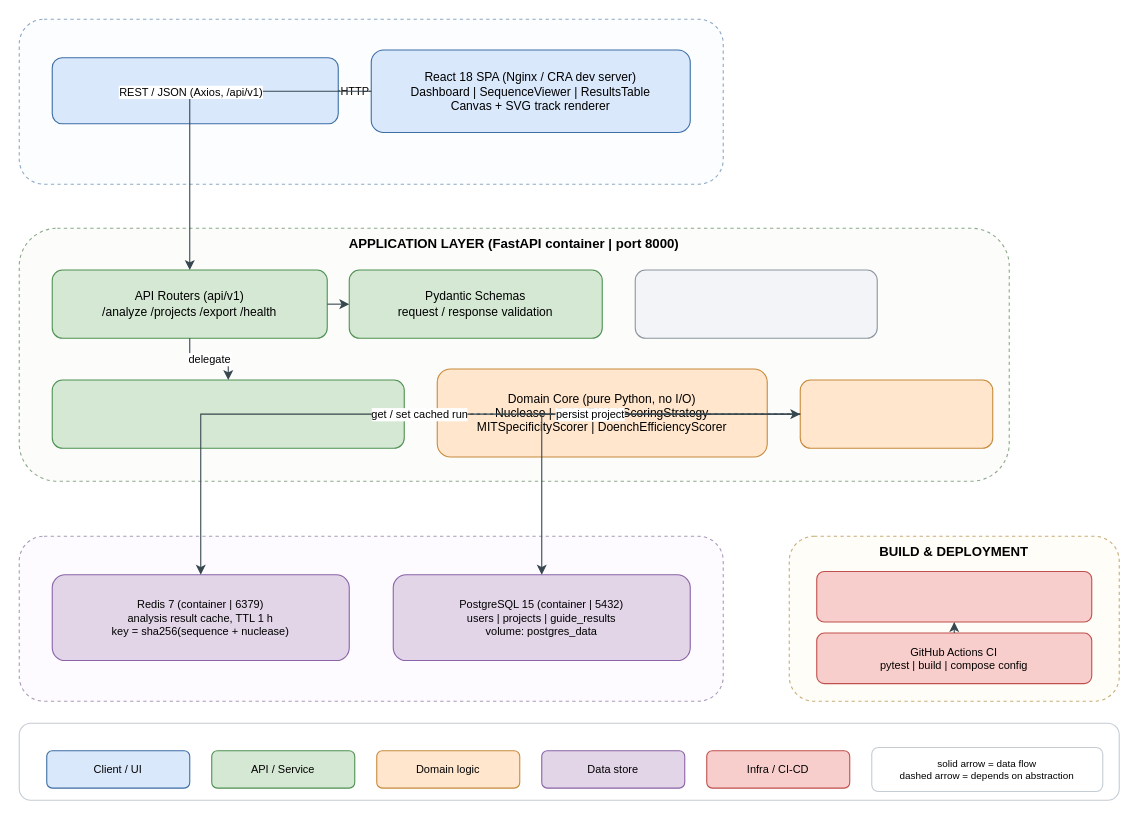
Some shapes in this 1139 by 820 pixel diagram are drawn without their labels. Each missing label, with the box of its shape:
CLIENT LAYER (Presentation): (18, 18, 723, 184)
DATA & CACHING TIER: (18, 535, 723, 701)
docker-compose.yml 4 services + named volume: (816, 570, 1092, 622)
GuideDesignService (orchestrator) coordinates scan -> design -> score -> rank: (51, 379, 404, 448)
LEGEND: (18, 722, 1119, 800)
OpenAPI / Swagger UI auto-generated contract: (634, 269, 877, 338)
Repository Interfaces ProjectRepo | CacheRepo: (799, 379, 993, 448)
User Browser Chrome / Firefox - localhost:3000: (51, 57, 338, 124)
